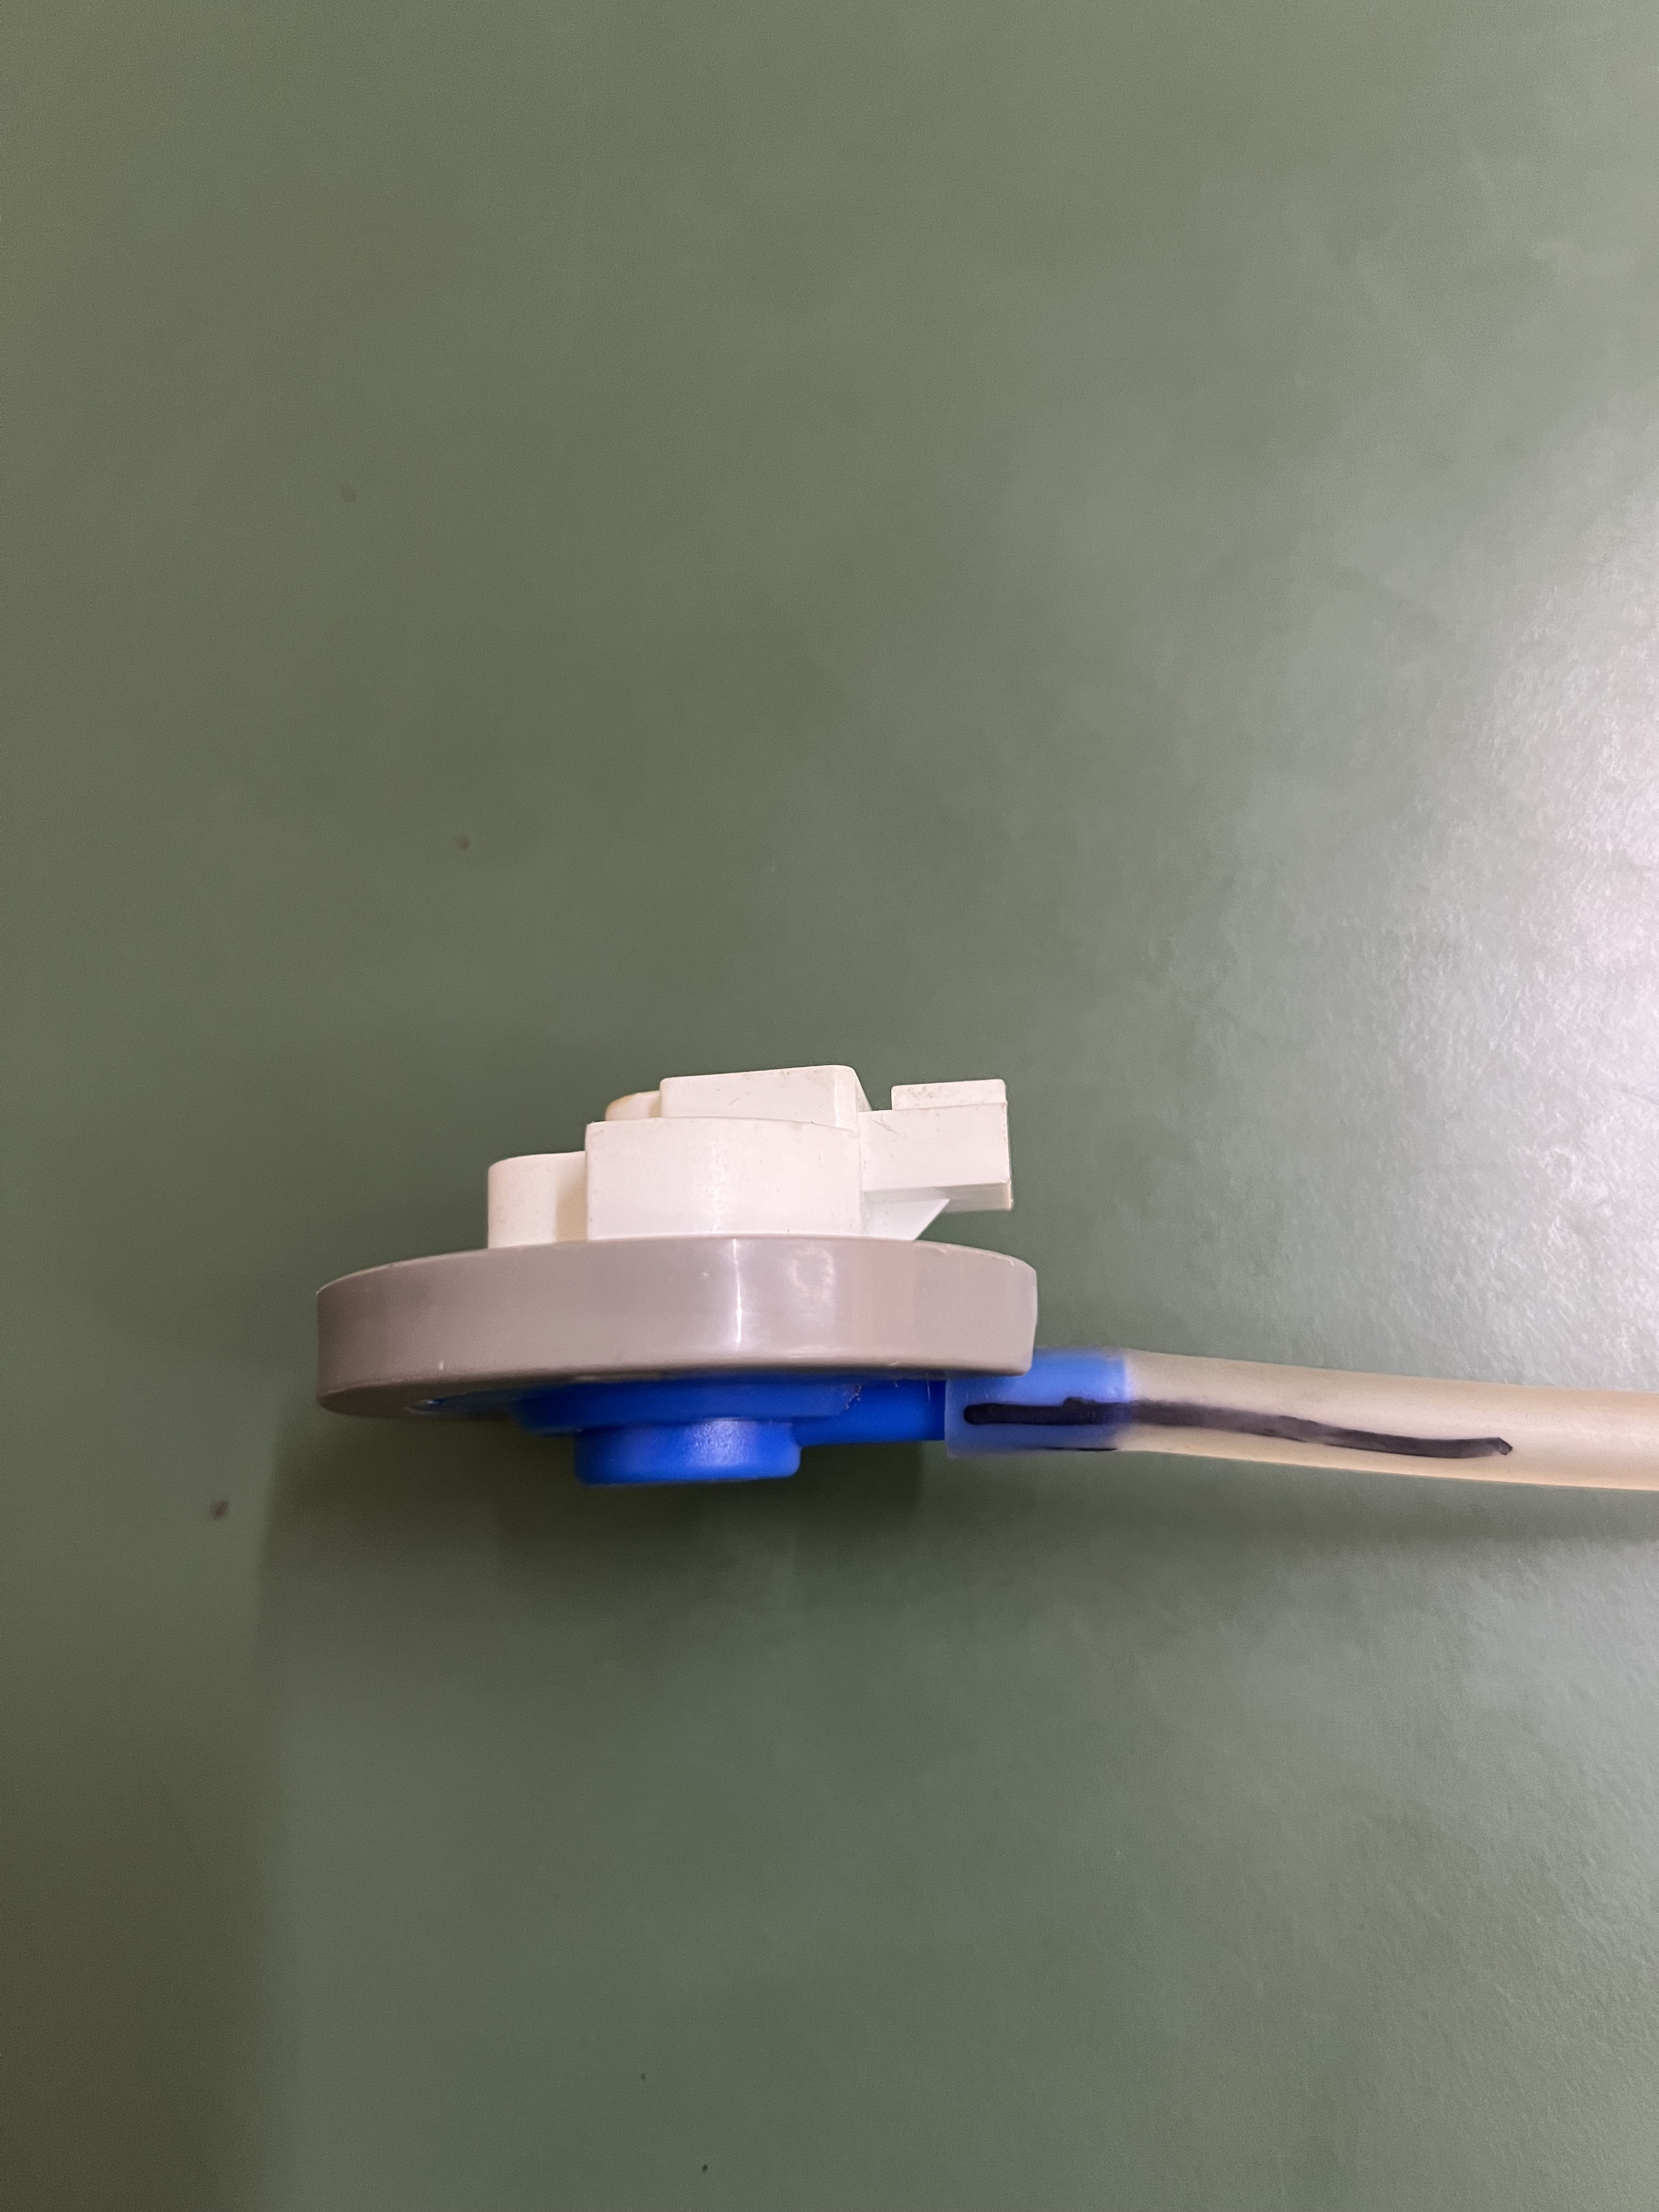pressure_sensor: (293, 1033, 1147, 1486)
